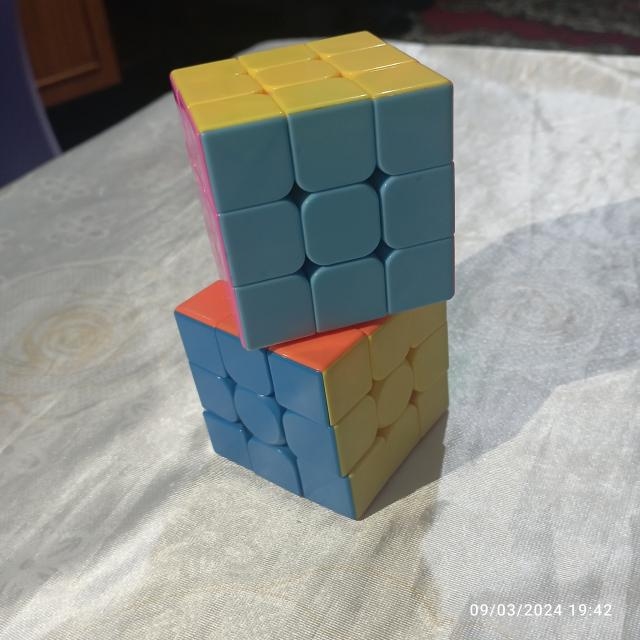Rub: (160, 26, 466, 350), (167, 272, 456, 524)
